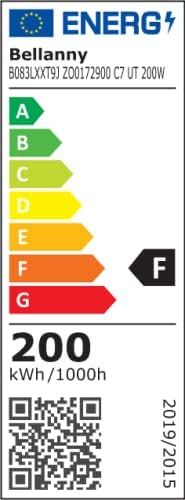200: (12, 332, 90, 362)
2008: (142, 67, 164, 79)
Bellanny: (10, 48, 87, 64)
C7: (114, 67, 124, 79)
UT: (128, 67, 138, 79)
kWh/1000h: (10, 368, 106, 383)
